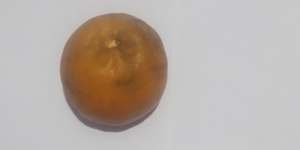BAD: (62, 11, 167, 129)
